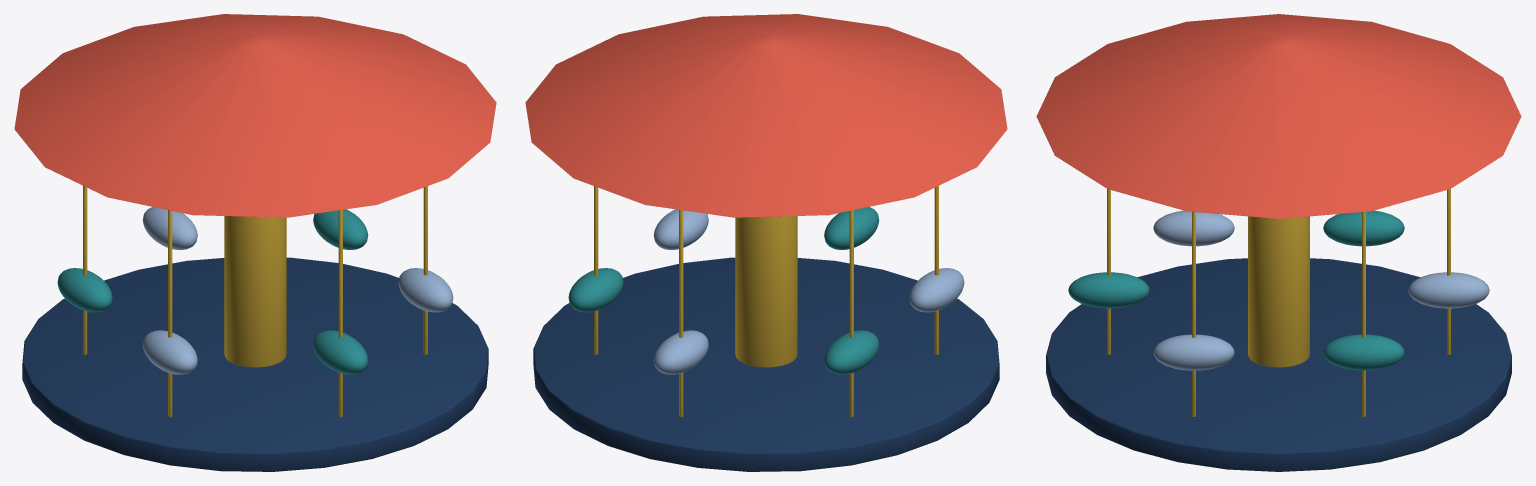
The model's file is fair-carousel-dc635ca94a02.glb.
The picture shows the model from 3 angles, left to right: view 1: azimuth 30°, elevation 25°; view 2: azimuth 150°, elevation 25°; view 3: azimuth 270°, elevation 25°; orthographic projection.
Visible parts, largest first — view 1: Canopy_Tent, Plinth, Brass_Pole_0, Whale_Seat_1, Whale_Seat_0; view 2: Canopy_Tent, Plinth, Brass_Pole_0, Whale_Seat_0, Whale_Seat_1; view 3: Canopy_Tent, Plinth, Brass_Pole_0, Whale_Seat_0, Whale_Seat_1.
Part boxes in pixels (x1,y1,x2,y2): Canopy_Tent: (14, 14, 496, 217); Plinth: (22, 257, 488, 471); Brass_Pole_0: (83, 186, 427, 417); Whale_Seat_1: (142, 207, 453, 374); Whale_Seat_0: (57, 209, 368, 374); Canopy_Tent: (525, 14, 1007, 217); Plinth: (533, 257, 999, 471); Brass_Pole_0: (594, 186, 938, 417); Whale_Seat_0: (568, 207, 879, 374); Whale_Seat_1: (653, 209, 964, 374); Canopy_Tent: (1036, 14, 1521, 218); Plinth: (1046, 258, 1511, 471); Brass_Pole_0: (1107, 189, 1450, 416); Whale_Seat_0: (1068, 210, 1404, 370); Whale_Seat_1: (1153, 210, 1489, 370).
Size of the model in its own units: 4.99 by 3.77 by 4.99.
5 materials, 1 textured.
